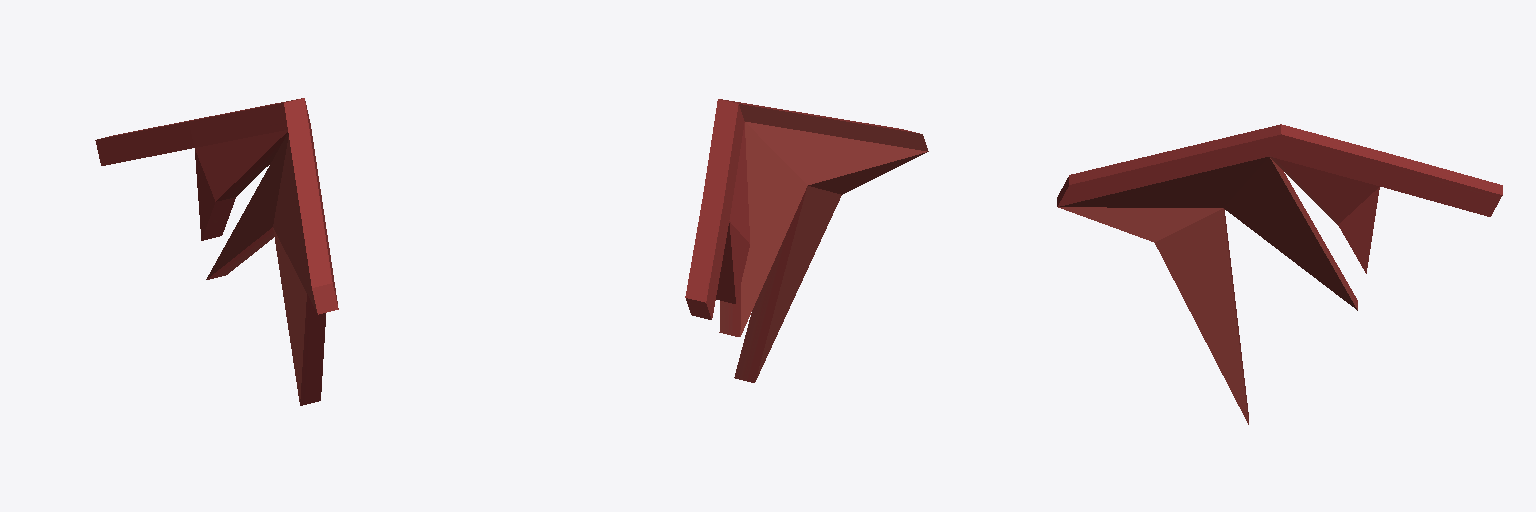
3 views of the same model, side by side, from view 1: azimuth 30°, elevation 25°; view 2: azimuth 150°, elevation 25°; view 3: azimuth 270°, elevation 25° (orthographic).
Parts seen in each view (by area): view 1: 立方体.008_立方体; view 2: 立方体.008_立方体; view 3: 立方体.008_立方体.
Boxes of the visible parts, x1=… form: 立方体.008_立方体: x1=95, y1=98, x2=338, y2=405; 立方体.008_立方体: x1=685, y1=99, x2=928, y2=382; 立方体.008_立方体: x1=1057, y1=124, x2=1502, y2=424.
Size of the model in its own units: 0.2769 by 0.7799 by 1.08.
1 materials, 1 textured.